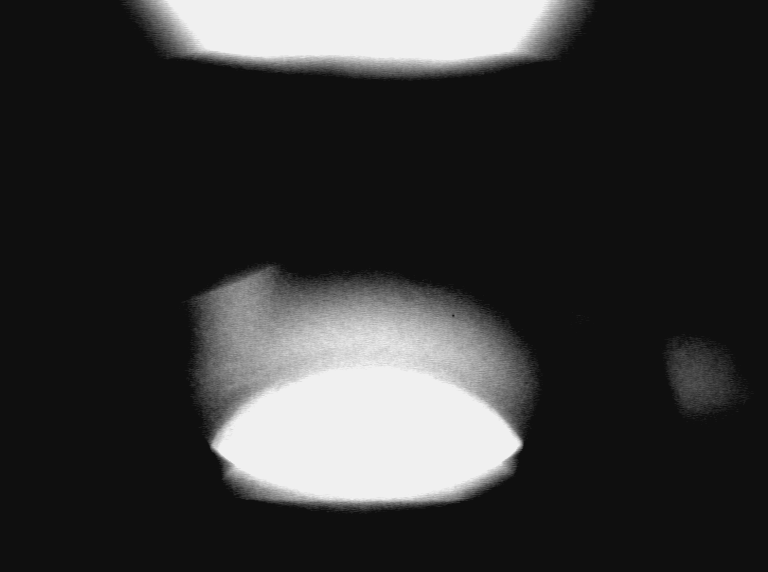defect: (194, 267, 290, 320)
